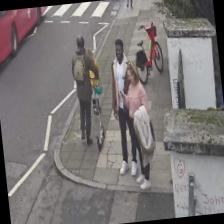person: (118, 60, 158, 190), (105, 38, 142, 177), (68, 33, 106, 147)
